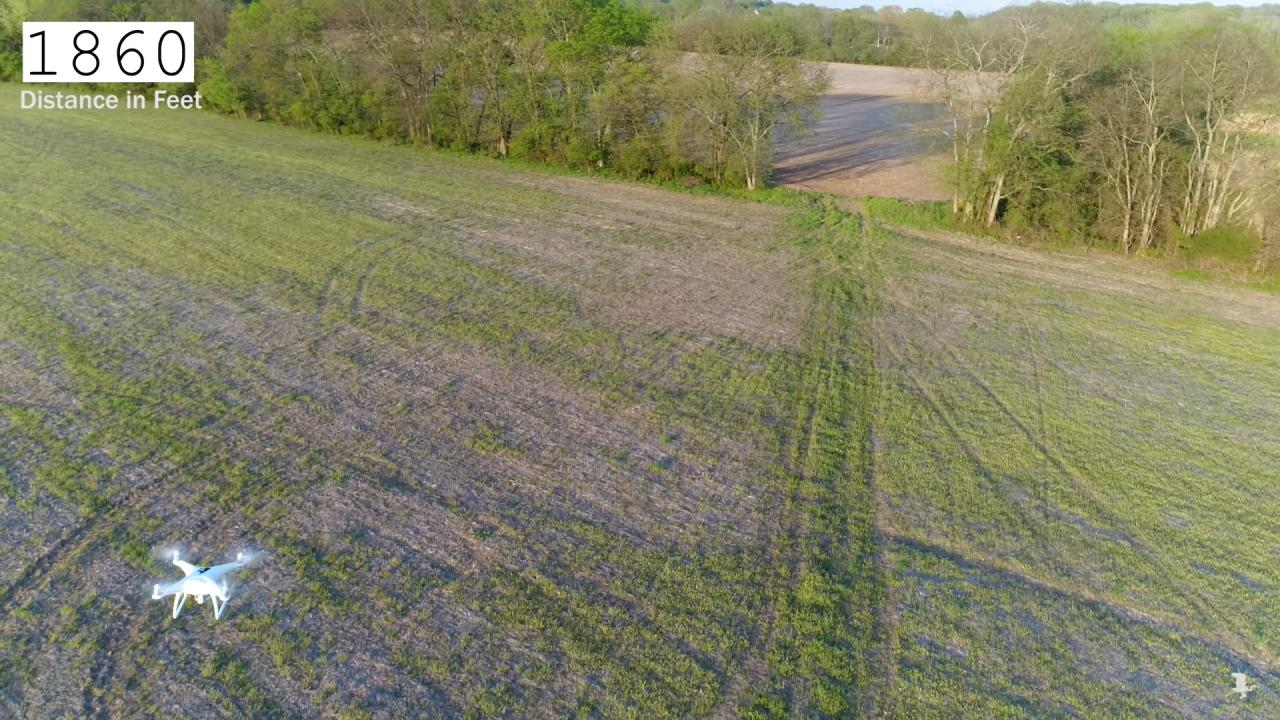Drone: (130, 523, 279, 635)
